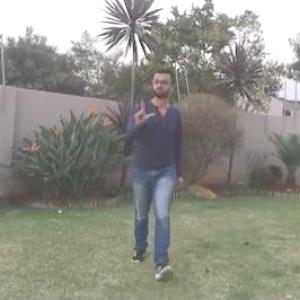land_hand: (131, 91, 157, 130)
